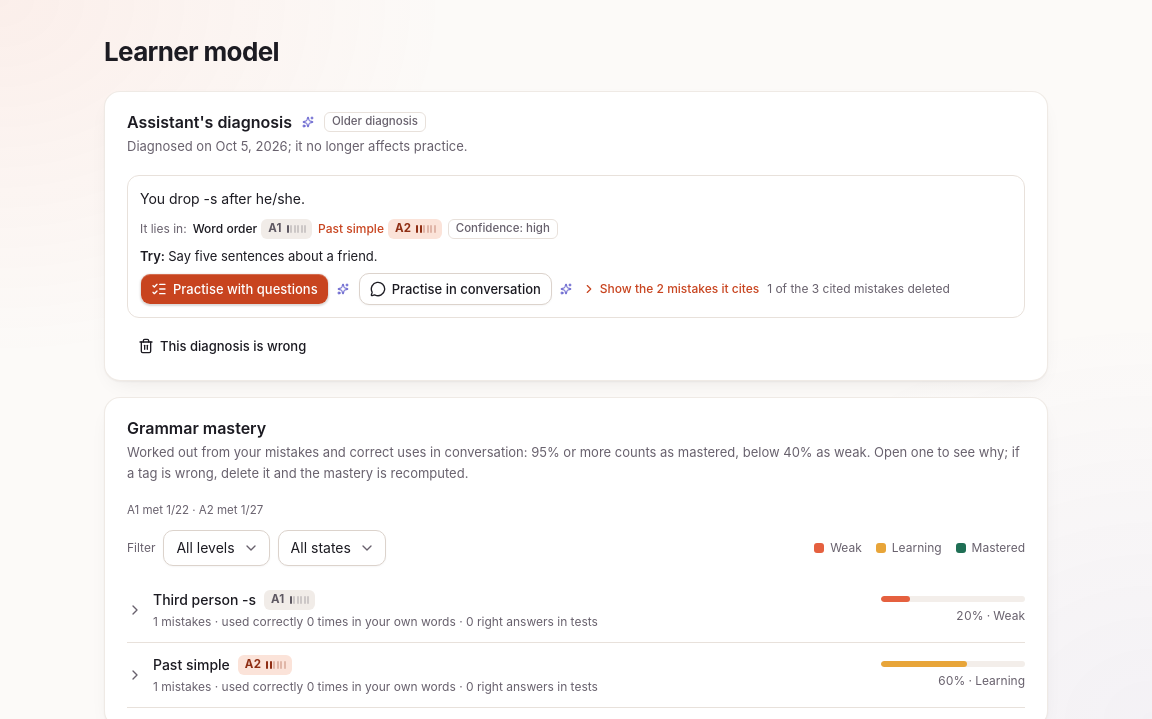
LearnerApp › marks an old diagnosis, and deletes one after confirming
The image size is (1152, 719).
Expected: the element with test id "learner-diagnosis" shows "Older diagnosis", 332,114 -> 418,128
Expected: the element with test id "learner-diagnosis" shows "it no longer affects practice", 127,138 -> 468,154
Click the button "This diagnosis is wrong" at [222, 346], box 127,330 -> 317,362
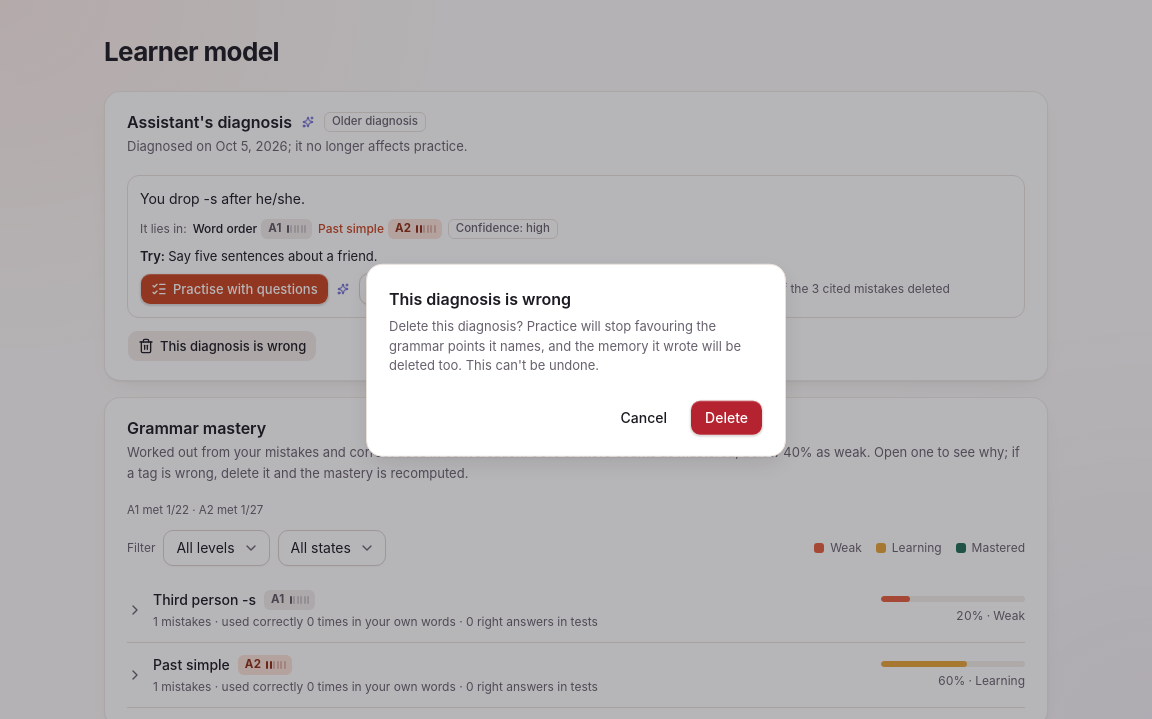
Expected: the dialog shows "the memory it wrote will be deleted too", 389,318 -> 741,373
Click the button "Delete" at [727, 417], box 690,399 -> 763,435
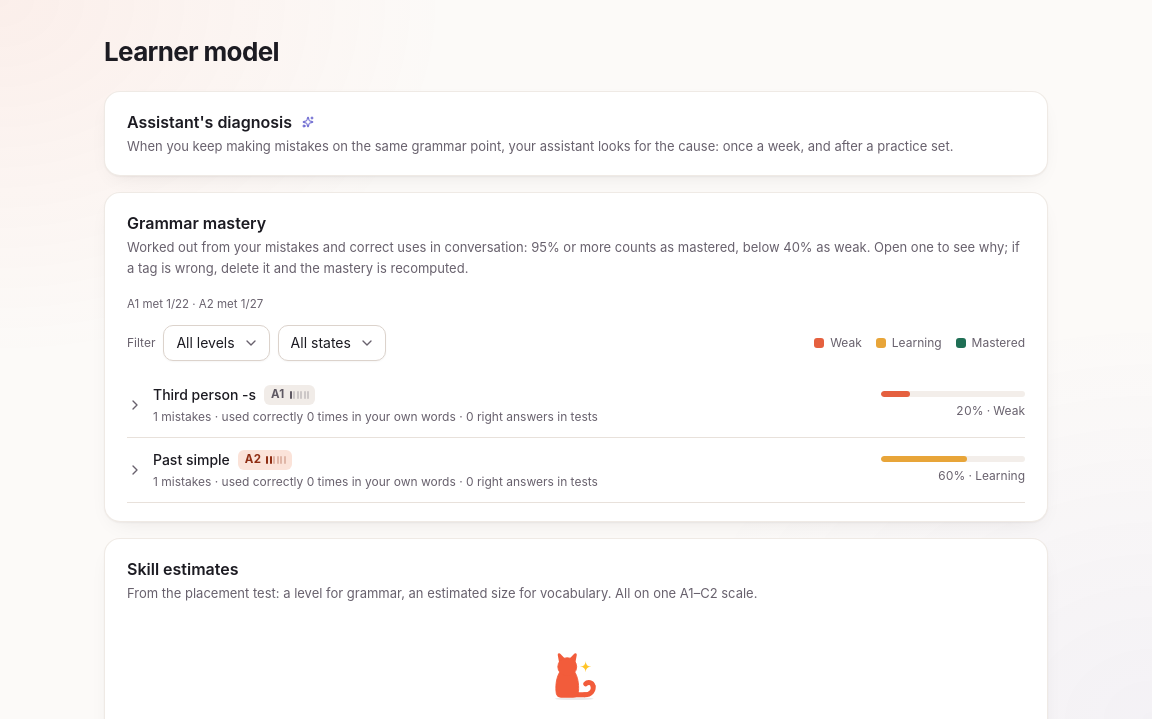
Expected: the element with test id "learner-diagnosis" shows "once a week", 127,138 -> 953,154
